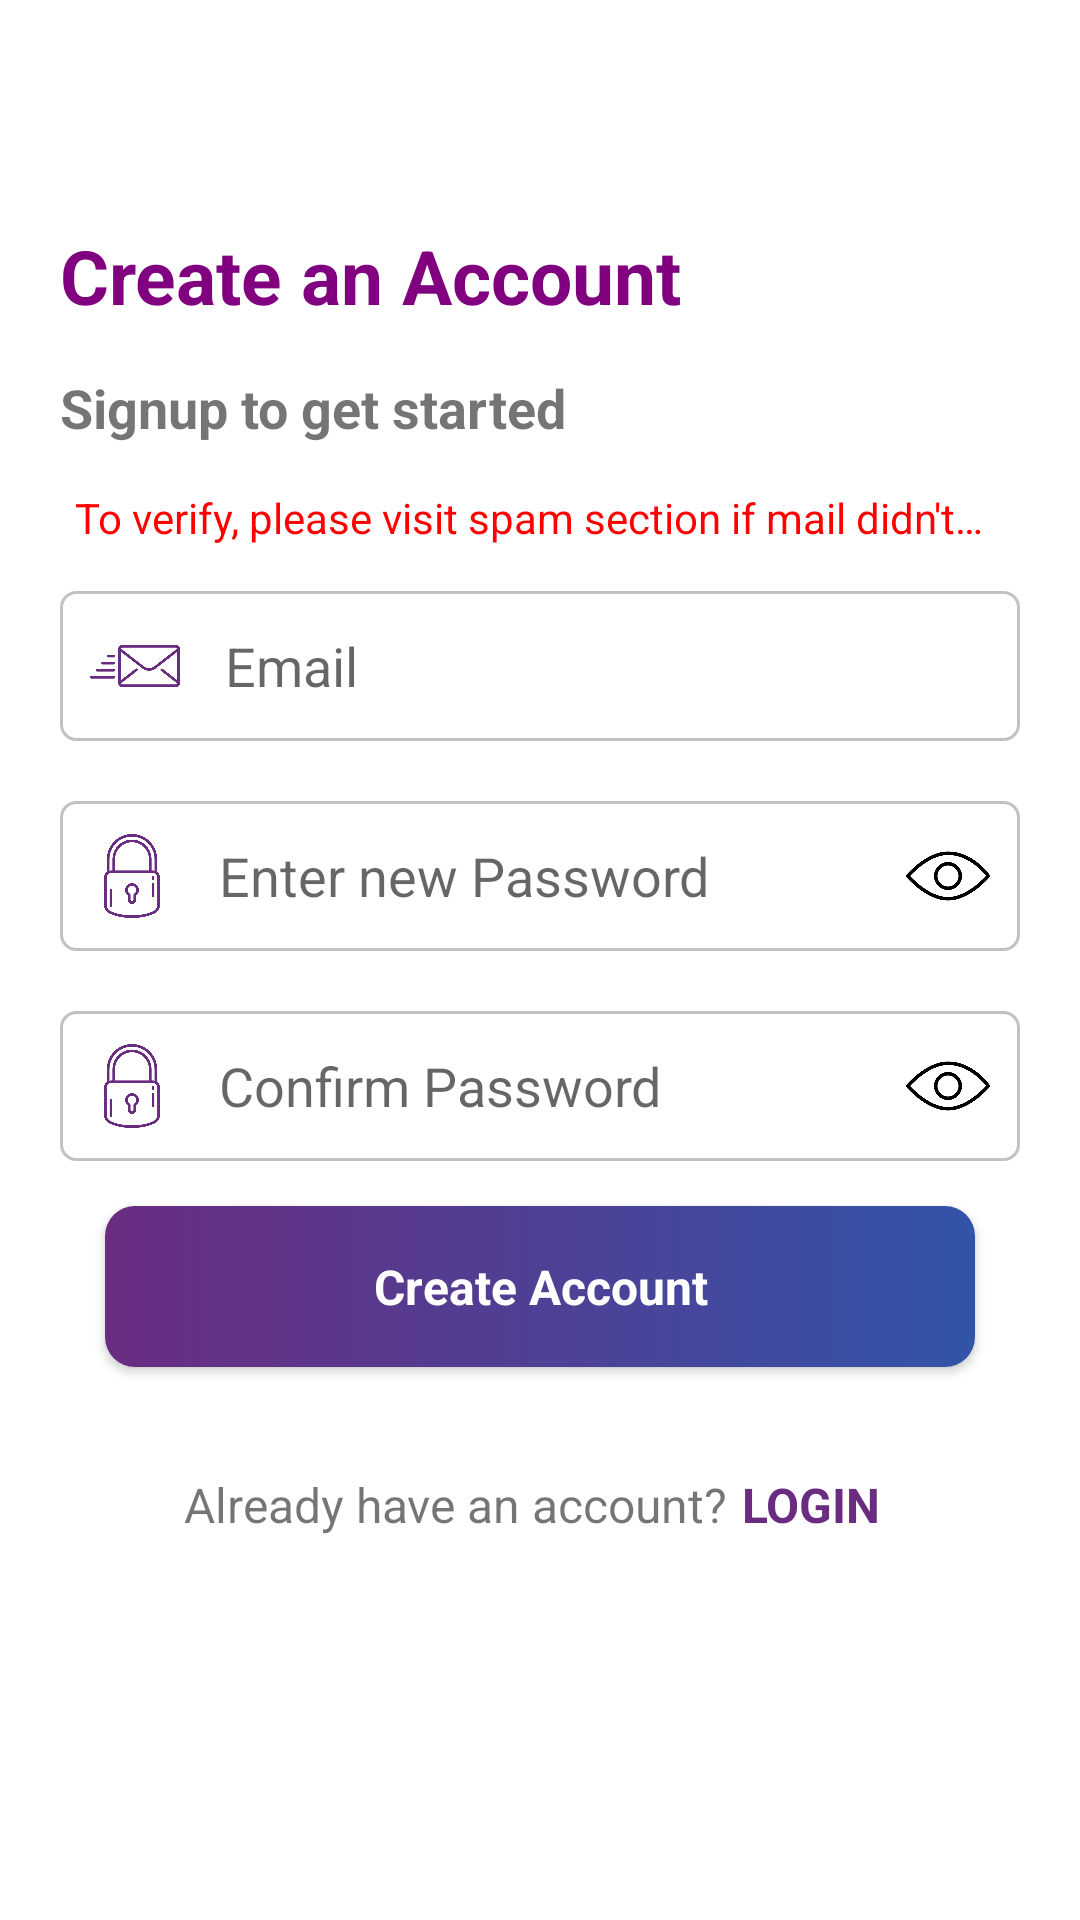

Locate icon controls on the screen. Image size 1080×1920, boxes as (x1, y1, x2, y2).
eye: (906, 851, 990, 901), (906, 1061, 990, 1111)
loock: (104, 834, 160, 918), (104, 1044, 160, 1128)
